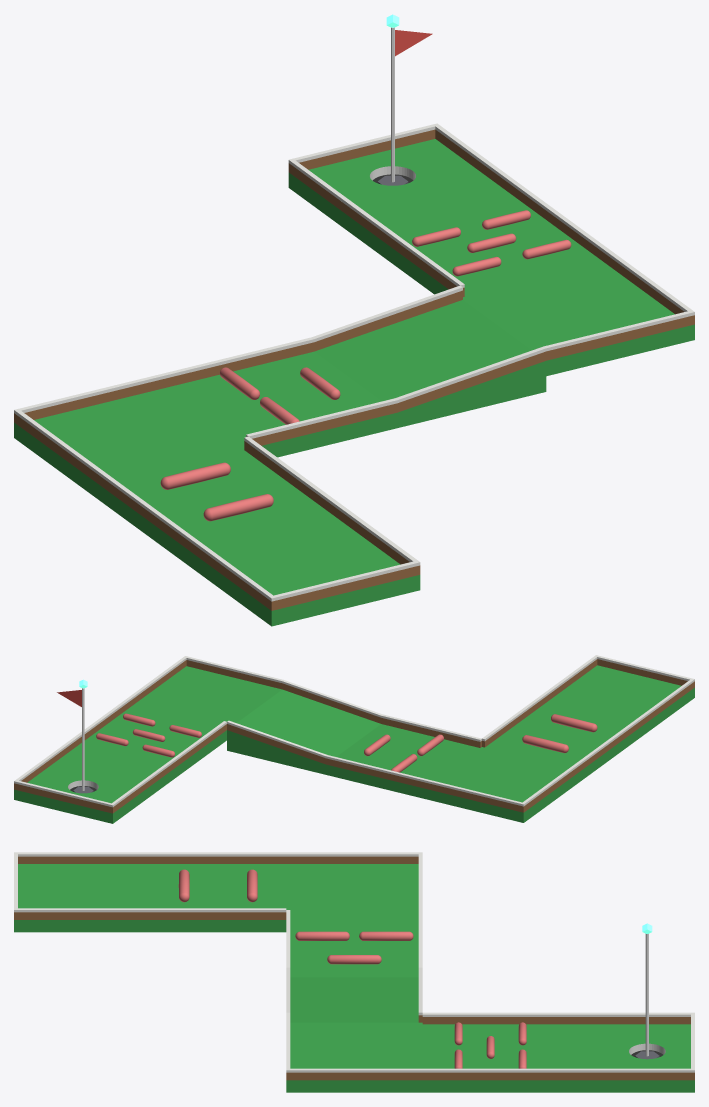
File: level_05.glb
The picture shows the model from 3 angles, top to bottom: view 1: azimuth 30°, elevation 25°; view 2: azimuth 150°, elevation 25°; view 3: azimuth 270°, elevation 25°; orthographic projection. The views are drawn at different scales.
Visible parts, largest first — view 1: Corner_Floor (×2), Ramp_Floor, Start_Floor, Finish_Floor, SpinnerTriangle_Floor, SpinnerCounter_Floor, SpinnerQuad_Floor, Corner_Rails (×2), Corner_RailCap (×2), Start_Rails, Ramp_Rails, Finish_Rails (+11 smaller); view 2: Corner_Floor (×2), Ramp_Floor, Finish_Floor, Start_Floor, SpinnerTriangle_Floor, SpinnerCounter_Floor, SpinnerQuad_Floor, Corner_Rails (×2), Corner_RailCap (×2), Finish_Rails, Start_Rails, Ramp_Rails (+12 smaller); view 3: Corner_Floor (×2), Start_Floor, Finish_Floor, SpinnerCounter_Floor, SpinnerQuad_Floor, SpinnerTriangle_Floor, Ramp_Floor, SpinnerQuad_Rails, Corner_Rails (×2), Finish_Rails, SpinnerCounter_Rails, Start_Rails (+11 smaller).
Boxes of the visible parts, x1,y1,x2,y2 form: Corner_Floor (×2): (14, 262, 694, 500); Ramp_Floor: (314, 300, 546, 427); Start_Floor: (185, 513, 420, 626); Finish_Floor: (288, 139, 518, 249); SpinnerTriangle_Floor: (166, 351, 397, 457); SpinnerCounter_Floor: (100, 450, 329, 563); SpinnerQuad_Floor: (374, 200, 603, 296); Corner_Rails (×2): (14, 253, 694, 484); Corner_RailCap (×2): (14, 249, 694, 475); Start_Rails: (185, 504, 420, 610); Ramp_Rails: (314, 290, 546, 412); Finish_Rails: (288, 129, 518, 234); Corner_Floor (×2): (131, 666, 580, 822); Ramp_Floor: (227, 689, 380, 774); Finish_Floor: (14, 748, 169, 823); Start_Floor: (542, 665, 694, 738); SpinnerTriangle_Floor: (326, 724, 479, 798); SpinnerCounter_Floor: (485, 706, 637, 780); SpinnerQuad_Floor: (74, 706, 226, 781); Corner_Rails (×2): (131, 660, 580, 812); Corner_RailCap (×2): (128, 656, 580, 806); Finish_Rails: (14, 742, 169, 813); Start_Rails: (542, 659, 694, 728); Ramp_Rails: (227, 683, 381, 764); Corner_Floor (×2): (286, 864, 422, 1092); Start_Floor: (14, 864, 150, 932); Finish_Floor: (558, 1024, 694, 1092); SpinnerCounter_Floor: (150, 864, 286, 932); SpinnerQuad_Floor: (422, 1024, 558, 1092); SpinnerTriangle_Floor: (290, 920, 418, 977); Ramp_Floor: (290, 977, 418, 1022); SpinnerQuad_Rails: (422, 1017, 558, 1080); Corner_Rails (×2): (286, 856, 422, 1080); Finish_Rails: (558, 1017, 694, 1080); SpinnerCounter_Rails: (150, 856, 286, 919); Start_Rails: (14, 856, 150, 919).
Size of what is drawn, in the model's own units: 40 by 12.38 by 50.
